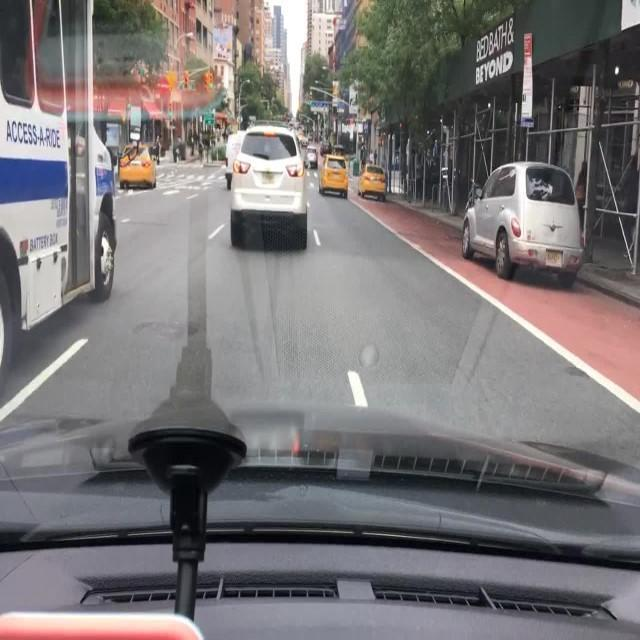normal: (0, 2, 114, 366), (464, 160, 587, 285), (228, 126, 313, 254), (118, 148, 158, 192), (317, 157, 349, 196)
